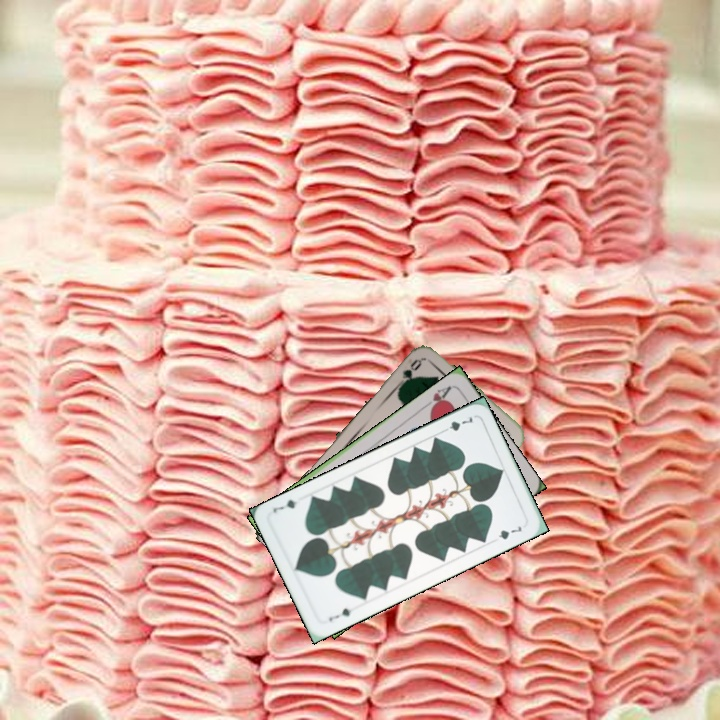G7: (438, 412, 475, 435), (325, 604, 354, 624)
GO: (392, 355, 424, 391)
HA: (419, 382, 454, 415)
